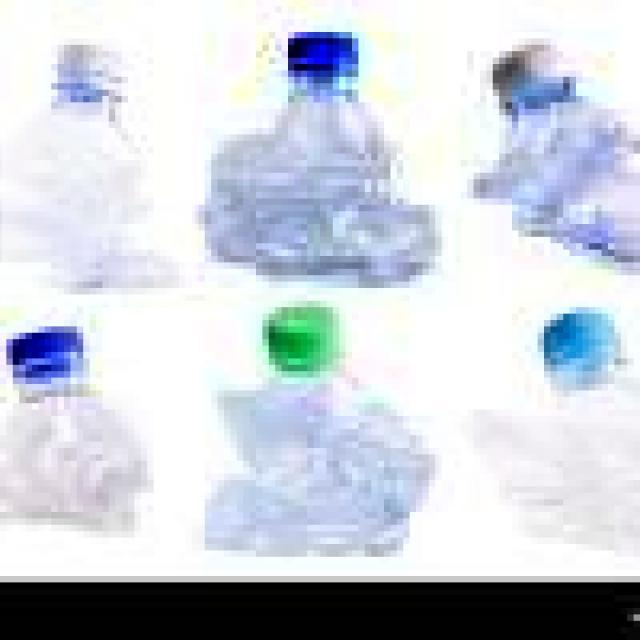BIODEGRADABLE: (177, 288, 439, 570), (195, 32, 444, 297), (2, 29, 189, 307), (458, 297, 640, 557), (456, 29, 640, 270), (0, 306, 171, 544)
